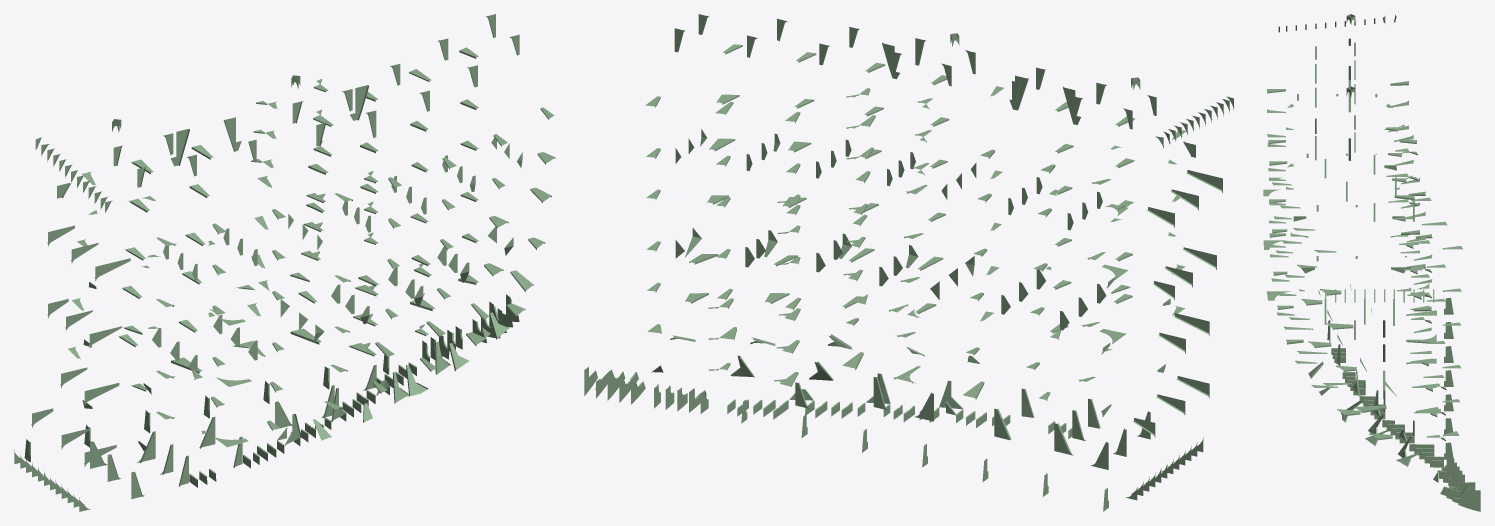
File: NO_1_WING_CARGO_OIL_TK_SB.glb
3 views of the same model, side by side, from view 1: azimuth 30°, elevation 25°; view 2: azimuth 150°, elevation 25°; view 3: azimuth 270°, elevation 25° (orthographic). The views are drawn at different scales.
Size of the model in its own units: 46.39 by 31.5 by 19.95.
